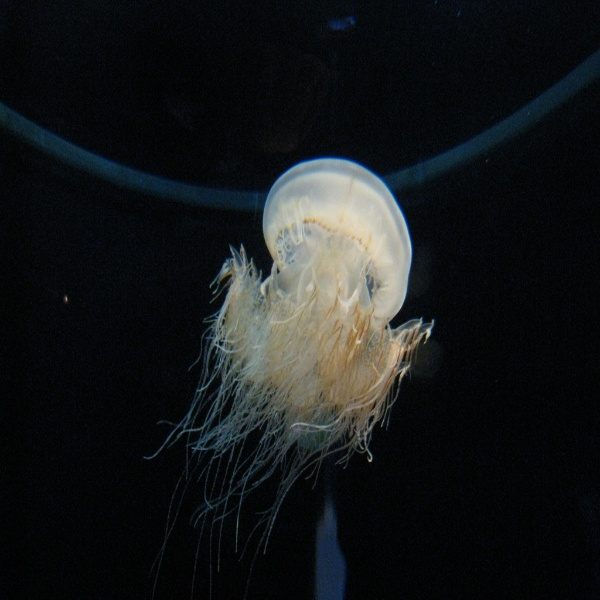Jellyfish: (141, 152, 434, 597)
